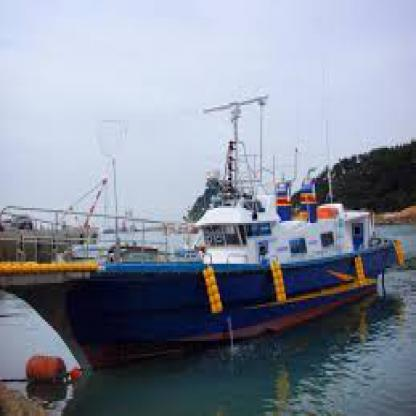fish-b: (3, 88, 414, 382)
